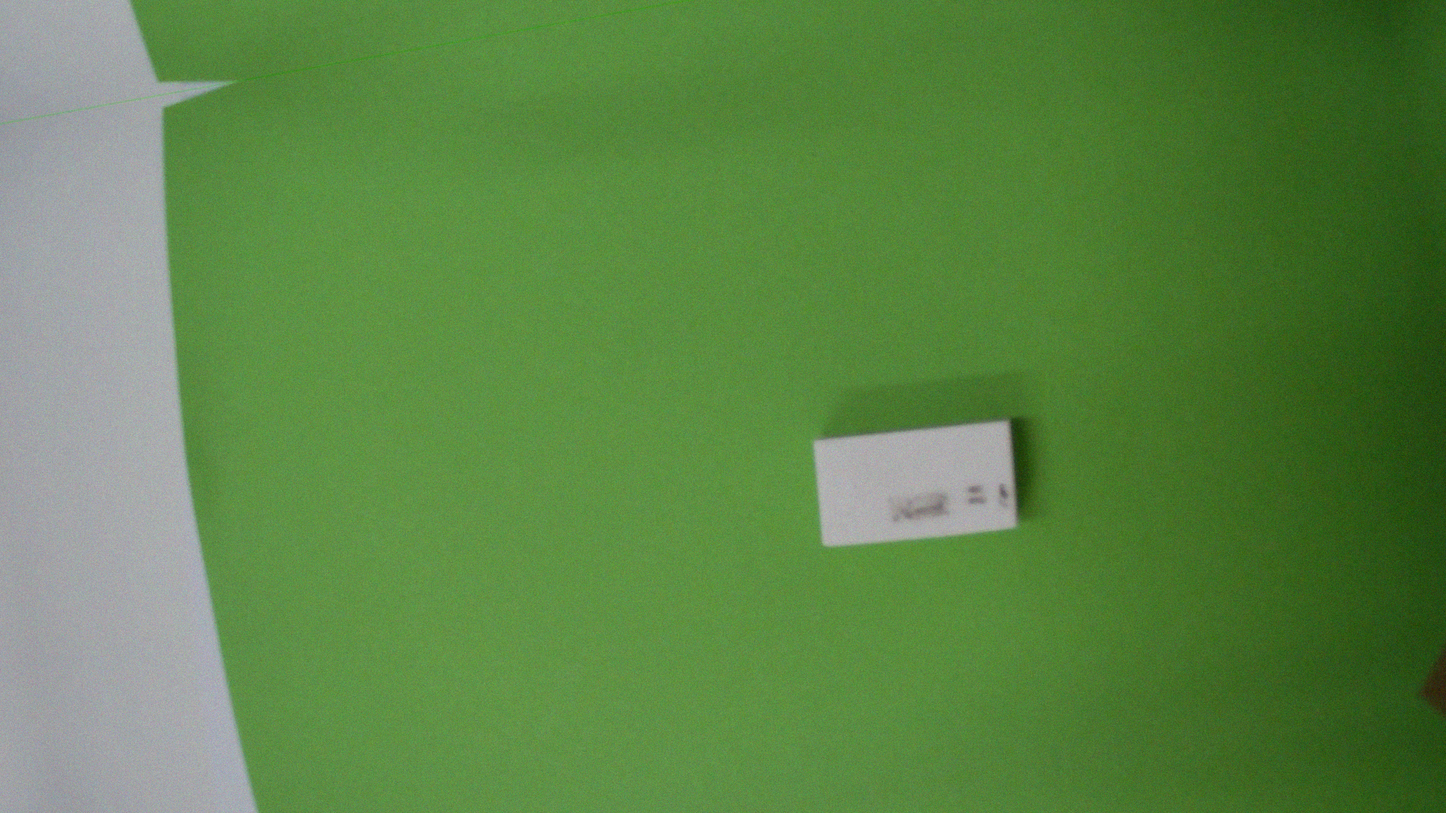gom: (801, 394, 1034, 574)
